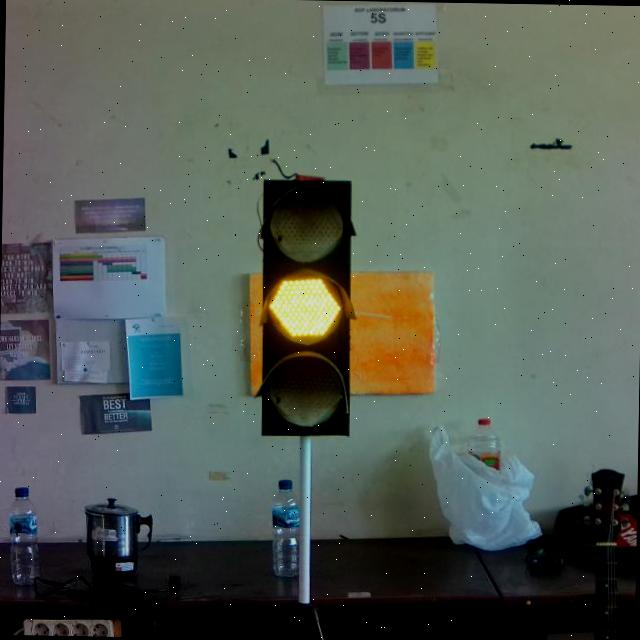yellow_light: (258, 178, 354, 434)
